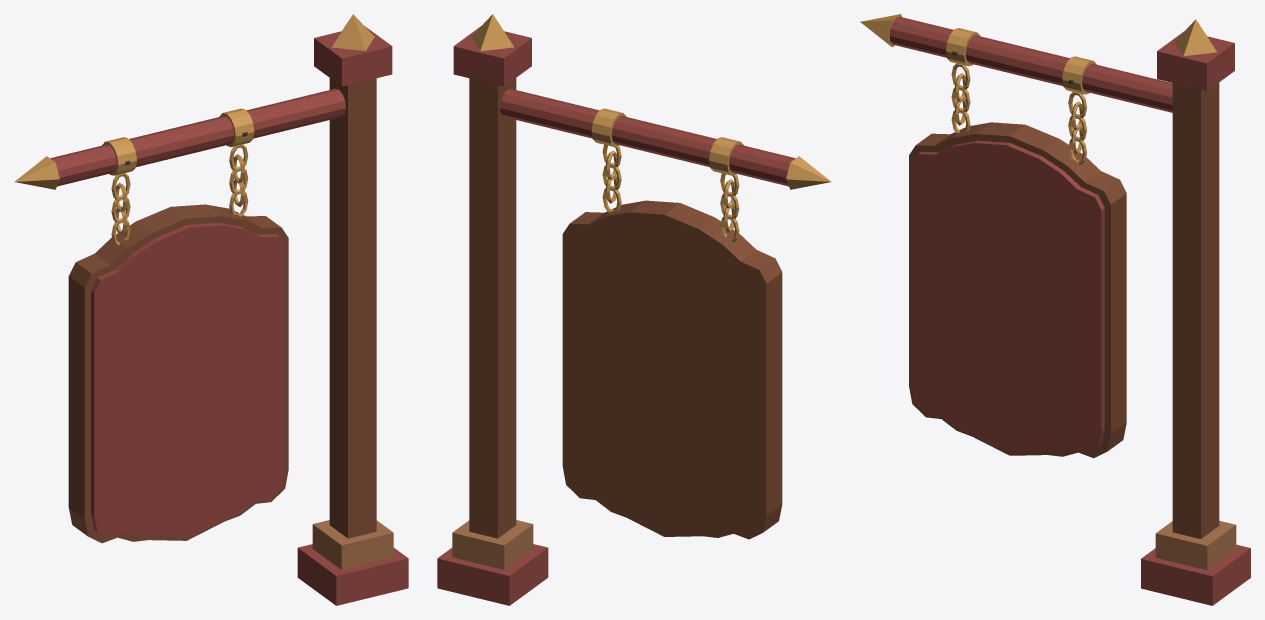
File: Shop_Sign.fbx
The picture shows the model from 3 angles, left to right: view 1: azimuth 30°, elevation 25°; view 2: azimuth 150°, elevation 25°; view 3: azimuth 330°, elevation 25°; orthographic projection.
Visible parts, largest first — view 1: Frente rojo; view 2: Frente rojo; view 3: Frente rojo.
Boxes of the visible parts, bbox=[...] form: Frente rojo: bbox=[14, 14, 408, 605]; Frente rojo: bbox=[437, 14, 831, 605]; Frente rojo: bbox=[860, 14, 1250, 605].
Size of the model in its own units: 223 by 323 by 40.
